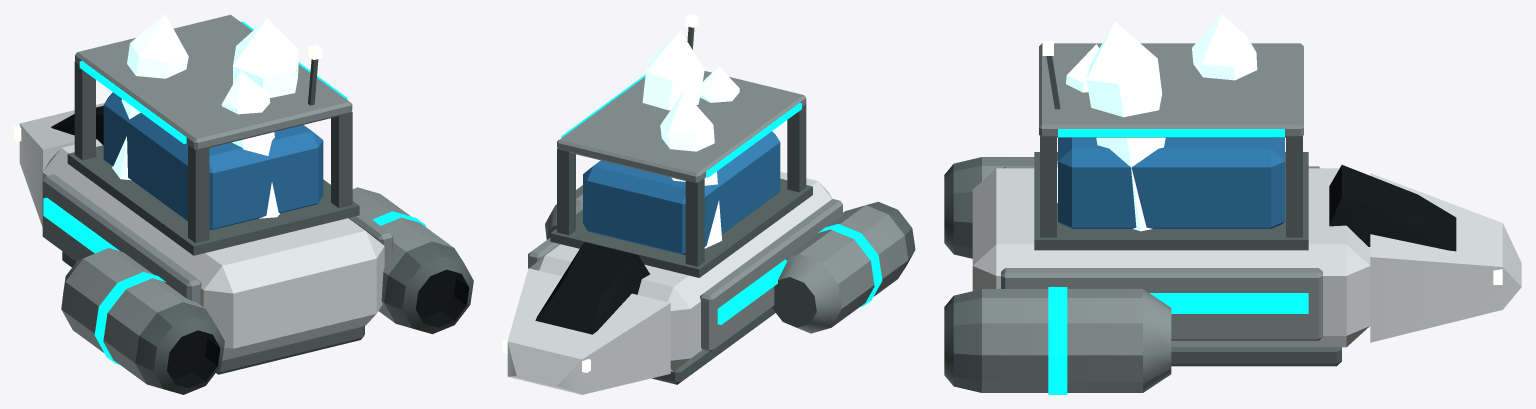
The model's file is minerador.glb.
3 renders of one model, left to right at view 1: azimuth 30°, elevation 25°; view 2: azimuth 150°, elevation 25°; view 3: azimuth 270°, elevation 25°, orthographic. The views are drawn at different scales.
Visible parts, largest first — view 1: minerador_casco, minerador_carga; view 2: minerador_casco, minerador_carga; view 3: minerador_casco, minerador_carga.
Part boxes in pixels (x1=…): minerador_casco: x1=14, y1=14, x2=473, y2=394; minerador_carga: x1=103, y1=14, x2=323, y2=229; minerador_casco: x1=502, y1=14, x2=915, y2=394; minerador_carga: x1=583, y1=31, x2=780, y2=254; minerador_casco: x1=944, y1=41, x2=1521, y2=394; minerador_carga: x1=1057, y1=14, x2=1284, y2=231.
Bounding box in the file's own units: 4.43 × 3.75 × 6.1.
